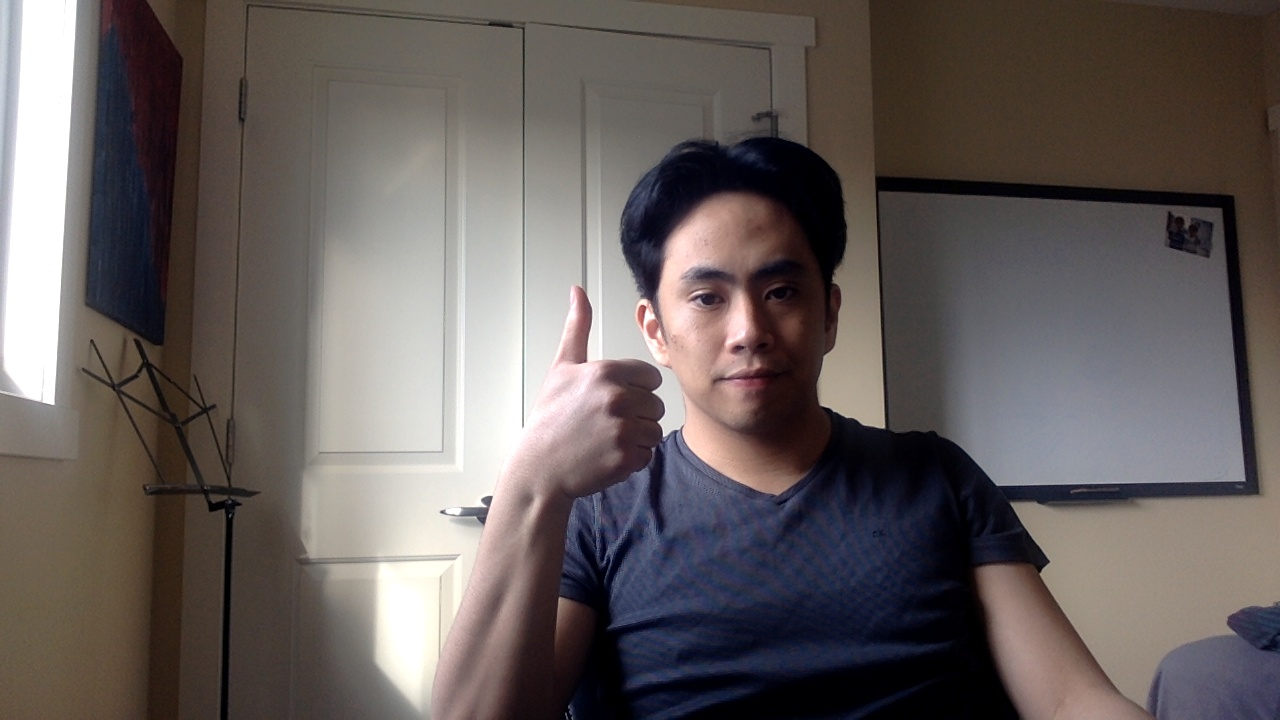ThumbsUp: (525, 286, 665, 500)
